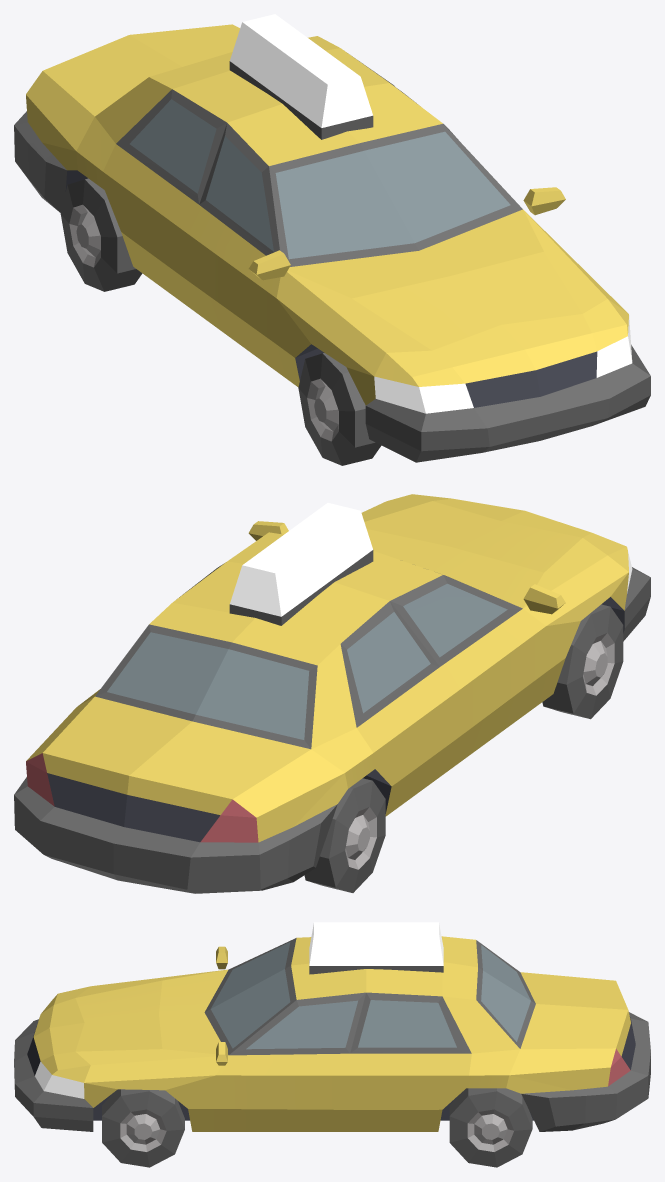
Rendered from taxi.glb.
The picture shows the model from 3 angles, top to bottom: view 1: azimuth 30°, elevation 25°; view 2: azimuth 150°, elevation 25°; view 3: azimuth 270°, elevation 25°; orthographic projection. The views are drawn at different scales.
Visible parts, largest first — view 1: car_taxi_base, windows, roofsign, car_taxi_wheel_FR, car_taxi_wheel_BR, headlight_R, headlight_L; view 2: car_taxi_base, windows, roofsign, car_taxi_wheel_BR, car_taxi_wheel_FR, rearlight_R, rearlight_L; view 3: car_taxi_base, windows, roofsign, car_taxi_wheel_BL, car_taxi_wheel_FL, rearlight_L.
Boxes of the visible parts, x1,y1,x2,y2 form: car_taxi_base: (14,24,650,462); windows: (130,99,510,259); roofsign: (230,14,372,127); car_taxi_wheel_FR: (298,353,381,465); car_taxi_wheel_BR: (60,178,142,291); headlight_R: (419,383,473,413); headlight_L: (596,336,632,377); car_taxi_base: (14,494,650,893); windows: (107,583,507,739); roofsign: (230,503,372,616); car_taxi_wheel_BR: (304,778,385,892); car_taxi_wheel_FR: (542,604,623,719); rearlight_R: (200,799,258,842); rearlight_L: (26,753,54,806); car_taxi_base: (14,936,650,1131); windows: (210,942,530,1049); roofsign: (309,922,443,965); car_taxi_wheel_BL: (449,1088,532,1167); car_taxi_wheel_FL: (102,1089,184,1167); rearlight_L: (608,1049,630,1086).
Bounding box in the file's own units: 2.19 × 1.77 × 5.35.
